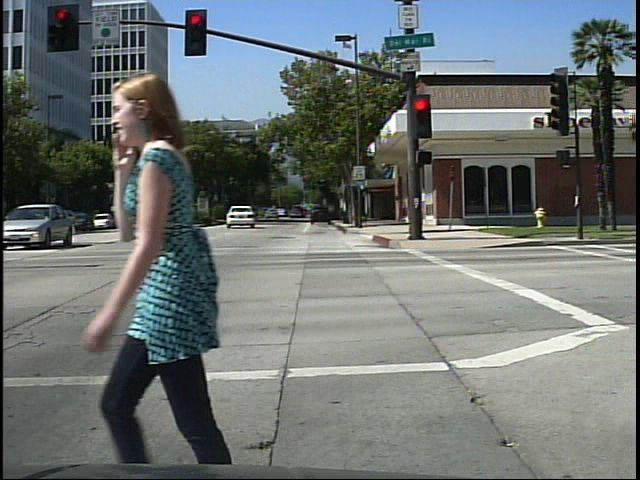person: (97, 63, 283, 466)
